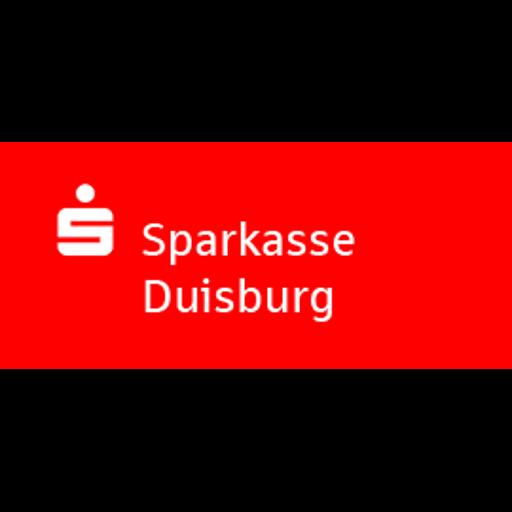Sparkasse Bank: (0, 142, 512, 369)
